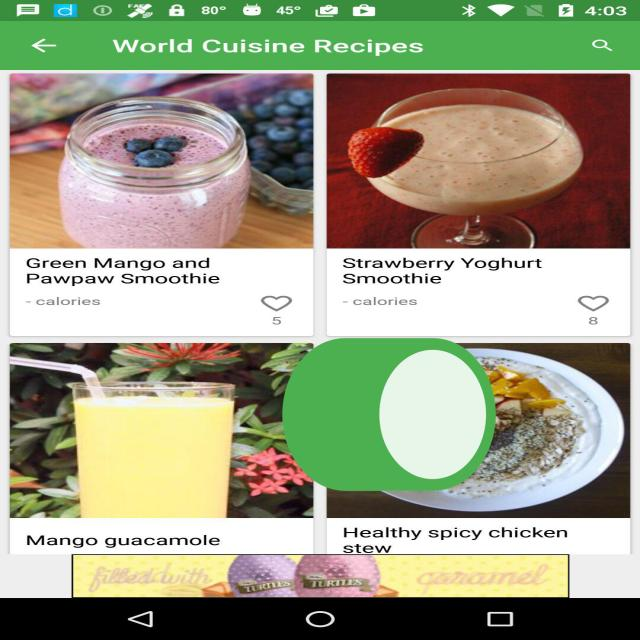social proof: (272, 279, 506, 562)
